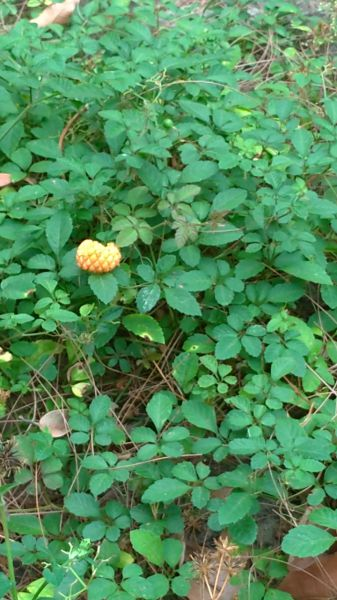eggs: (72, 235, 125, 275)
